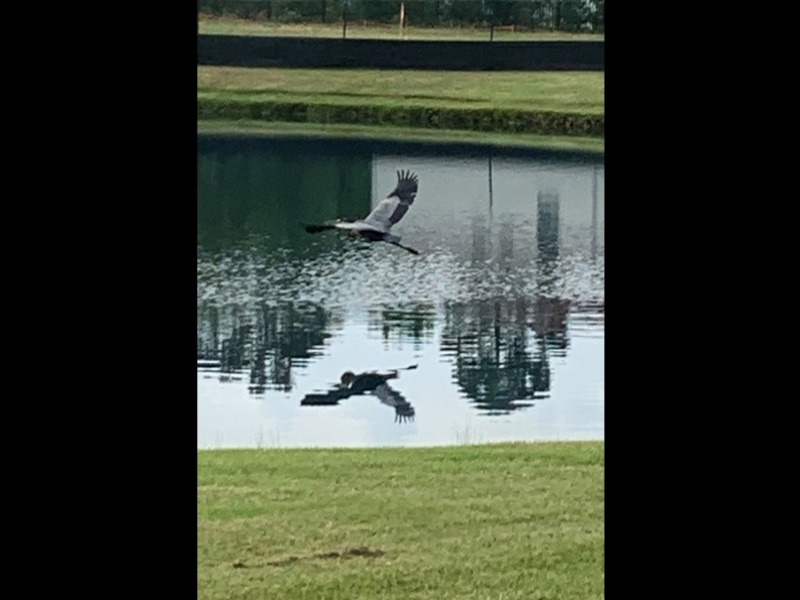heron: (305, 170, 422, 259)
